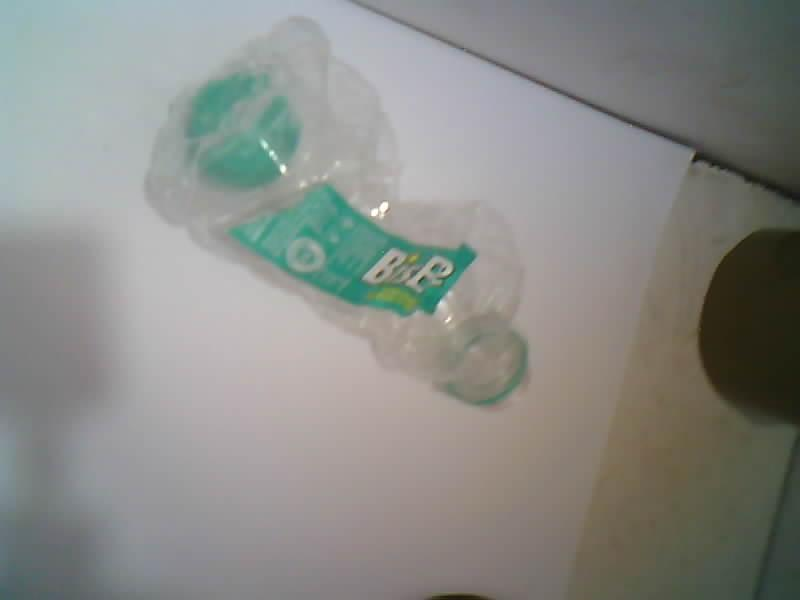non-biodegradable: (146, 17, 527, 404)
